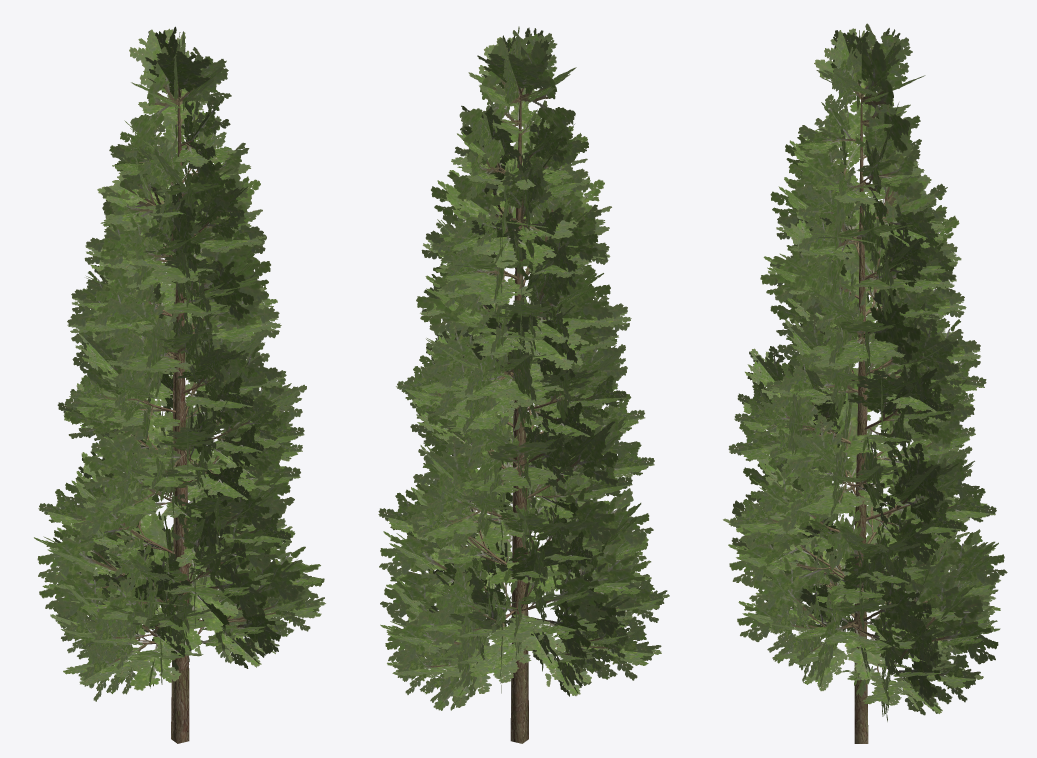
The model's file is LaurusNobilis.glb.
3 renders of one model, left to right at view 1: azimuth 30°, elevation 25°; view 2: azimuth 150°, elevation 25°; view 3: azimuth 270°, elevation 25°, orthographic.
Visible parts, largest first — view 1: Bay_Laurel__Realistic_LOD3; view 2: Bay_Laurel__Realistic_LOD3; view 3: Bay_Laurel__Realistic_LOD3.
Boxes of the visible parts, x1,y1,x2,y2 form: Bay_Laurel__Realistic_LOD3: [34, 26, 325, 743]; Bay_Laurel__Realistic_LOD3: [378, 26, 669, 743]; Bay_Laurel__Realistic_LOD3: [723, 23, 1007, 743].
Bounding box in the file's own units: 1.71 × 4.28 × 1.67.
1 material, 1 textured.
